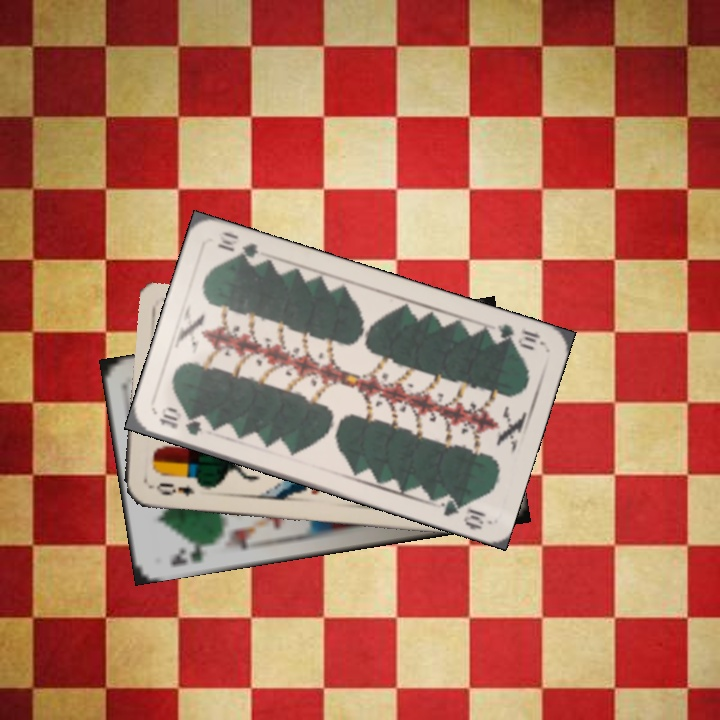EO: (146, 479, 197, 499)
G10: (485, 319, 543, 353), (154, 409, 205, 438)
GK: (167, 540, 214, 570)
